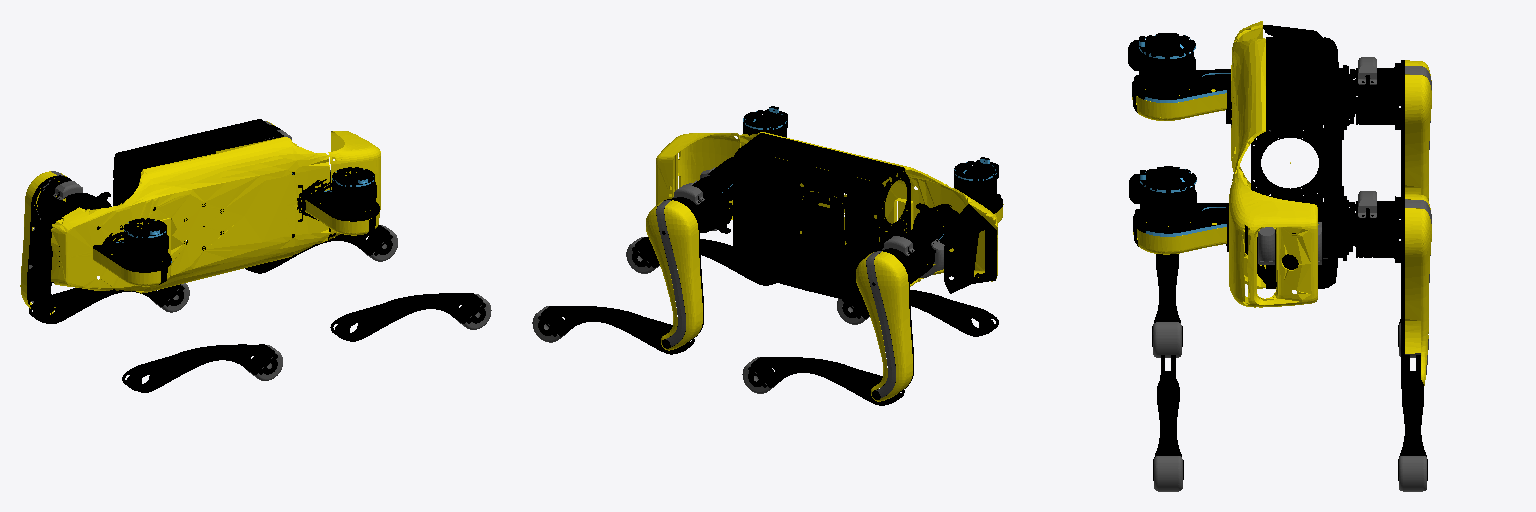
robot.urdf — MiniLiteV2:
<?xml version="1.0" encoding="utf-8"?>
<robot name="MiniLiteV2">
  <gazebo>
    <plugin filename="libgazebo_ros_control.so" name="gazebo_ros_control">
      <robotNamespace>/lite2_gazebo</robotNamespace>
      <robotSimType>gazebo_ros_control/DefaultRobotHWSim</robotSimType>
    </plugin>
  </gazebo>
  <gazebo reference="imu_link">
    <gravity>true</gravity>
    <sensor name="imu_sensor" type="imu">
      <always_on>true</always_on>
      <update_rate>1000</update_rate>
      <visualize>true</visualize>
      <topic>__default_topic__</topic>
      <plugin filename="libgazebo_ros_imu_sensor.so" name="imu_plugin">
        <topicName>trunk_imu</topicName>
        <bodyName>imu_link</bodyName>
        <updateRateHZ>1000.0</updateRateHZ>
        <gaussianNoise>0.0</gaussianNoise>
        <xyzOffset>0 0 0</xyzOffset>
        <rpyOffset>0 0 0</rpyOffset>
        <frameName>imu_link</frameName>
      </plugin>
      <pose>0 0 0 0 0 0</pose>
    </sensor>
  </gazebo>
  <!-- Foot contacts. -->
  <gazebo reference="FR_SHANK">
    <sensor name="FR_foot_contact" type="contact">
      <update_rate>100</update_rate>
      <plugin filename="libRobotFootContactPlugin.so" name="contactPlugin"/>
      <contact>
        <collision>FR_SHANK_fixed_joint_lump__FR_FOOT_collision_1</collision>
      </contact>
    </sensor>
  </gazebo>
  <gazebo reference="FL_SHANK">
    <sensor name="FL_foot_contact" type="contact">
      <update_rate>100</update_rate>
      <plugin filename="libRobotFootContactPlugin.so" name="contactPlugin"/>
      <contact>
        <collision>FL_SHANK_fixed_joint_lump__FL_FOOT_collision_1</collision>
      </contact>
    </sensor>
  </gazebo>
  <gazebo reference="HR_SHANK">
    <sensor name="RR_foot_contact" type="contact">
      <update_rate>100</update_rate>
      <plugin filename="libRobotFootContactPlugin.so" name="contactPlugin"/>
      <contact>
        <collision>HR_SHANK_fixed_joint_lump__HR_FOOT_collision_1</collision>
      </contact>
    </sensor>
  </gazebo>
  <gazebo reference="HL_SHANK">
    <sensor name="RL_foot_contact" type="contact">
      <update_rate>100</update_rate>
      <plugin filename="libRobotFootContactPlugin.so" name="contactPlugin"/>
      <contact>
        <collision>HL_SHANK_fixed_joint_lump__HL_FOOT_collision_1</collision>
      </contact>
    </sensor>
  </gazebo>
  <gazebo reference="TORSO">
    <mu1>0.2</mu1>
    <mu2>0.2</mu2>
    <kp value="1000000.0"/>
    <kd value="1.0"/>
  </gazebo>
  <gazebo reference="FL_HIP">
    <mu1>0.2</mu1>
    <mu2>0.2</mu2>
  </gazebo>
  <gazebo reference="FL_THIGH">
    <mu1>0.2</mu1>
    <mu2>0.2</mu2>
    <self_collide>1</self_collide>
    <kp value="1000000.0"/>
    <kd value="1.0"/>
  </gazebo>
  <gazebo reference="FL_SHANK">
    <mu1>0.2</mu1>
    <mu2>0.2</mu2>
    <self_collide>1</self_collide>
  </gazebo>
  <gazebo reference="FL_FOOT">
    <mu1>0.6</mu1>
    <mu2>0.6</mu2>
    <self_collide>1</self_collide>
    <kp value="1000000.0"/>
    <kd value="1.0"/>
  </gazebo>

  <gazebo reference="FR_HIP">
    <mu1>0.2</mu1>
    <mu2>0.2</mu2>
  </gazebo>
  <gazebo reference="FR_THIGH">
    <mu1>0.2</mu1>
    <mu2>0.2</mu2>
    <self_collide>1</self_collide>
    <kp value="1000000.0"/>
    <kd value="1.0"/>
  </gazebo>
  <gazebo reference="FR_SHANK">
    <mu1>0.2</mu1>
    <mu2>0.2</mu2>
    <self_collide>1</self_collide>
  </gazebo>
  <gazebo reference="FR_FOOT">
    <mu1>0.6</mu1>
    <mu2>0.6</mu2>
    <self_collide>1</self_collide>
    <kp value="1000000.0"/>
    <kd value="1.0"/>
  </gazebo>

  <gazebo reference="HL_HIP">
    <mu1>0.2</mu1>
    <mu2>0.2</mu2>
  </gazebo>
  <gazebo reference="HL_THIGH">
    <mu1>0.2</mu1>
    <mu2>0.2</mu2>
    <self_collide>1</self_collide>
    <kp value="1000000.0"/>
    <kd value="1.0"/>
  </gazebo>
  <gazebo reference="HL_SHANK">
    <mu1>0.2</mu1>
    <mu2>0.2</mu2>
    <self_collide>1</self_collide>
  </gazebo>
  <gazebo reference="HL_FOOT">
    <mu1>0.6</mu1>
    <mu2>0.6</mu2>
    <self_collide>1</self_collide>
    <kp value="1000000.0"/>
    <kd value="1.0"/>
  </gazebo>

  <gazebo reference="HR_HIP">
    <mu1>0.2</mu1>
    <mu2>0.2</mu2>
  </gazebo>
  <gazebo reference="HR_THIGH">
    <mu1>0.2</mu1>
    <mu2>0.2</mu2>
    <self_collide>1</self_collide>
    <kp value="1000000.0"/>
    <kd value="1.0"/>
  </gazebo>
  <gazebo reference="HR_SHANK">
    <mu1>0.2</mu1>
    <mu2>0.2</mu2>
    <self_collide>1</self_collide>
  </gazebo>
  <gazebo reference="HR_FOOT">
    <mu1>0.6</mu1>
    <mu2>0.6</mu2>
    <self_collide>1</self_collide>
    <kp value="1000000.0"/>
    <kd value="1.0"/>
  </gazebo>
  <gazebo reference="imu_link">
    <mu1>0.2</mu1>
    <mu2>0.2</mu2>
    <material>Gazebo/Red</material>
  </gazebo>

  <link name="base_link" />

  <joint name="base_link_fixedjoint" type="fixed">
    <parent link="base_link"/>
    <child link="TORSO"/>
    <origin rpy="0 0 0" xyz="0 0 0"/>
    <axis xyz="0 0 0"/>
  </joint>

  <link name="TORSO">
    <visual>
      <origin rpy="-1.570796 3.1415926 3.1415926" xyz="0 0 0"/>
      <geometry>
        <mesh filename="package://lite2_description/meshes/TORSO2.dae" />
      </geometry>
    </visual>
    <collision>
      <geometry>
        <box size="0.234 0.184 0.08"/>
      </geometry>
    </collision>
  </link>

  <joint name="Torso2Inertia" type="fixed">
    <parent link="TORSO" />
    <child link="INERTIA" />
  </joint>

  <link name="INERTIA">
    <inertial>
      <origin xyz="0.046396 -0.0017592 0.028665" />
      <mass value="5.298" />
      <inertia ixx="0.0095569" ixy="5.9672E-05" ixz="9.3193E-05" iyy="0.014357" iyz="1.9063E-05" izz="0.01949" />
    </inertial>
  </link>

  <joint name="imu_joint" type="fixed">
    <parent link="TORSO"/>
    <child link="imu_link"/>
    <origin rpy="0 0 0" xyz="0 0 0"/>
  </joint>

  <link name="imu_link">
    <inertial>
      <mass value="0.001"/>
      <origin rpy="0 0 0" xyz="0 0 0"/>
      <inertia ixx="0.0001" ixy="0" ixz="0" iyy="0.0001" iyz="0" izz="0.0001"/>
    </inertial>
    <visual>
      <origin rpy="0 0 0" xyz="0 0 0"/>
      <geometry>
        <box size="0.001 0.001 0.001"/>
      </geometry>
      <material name="red"/>
    </visual>
    <collision>
      <origin rpy="0 0 0" xyz="0 0 0"/>
      <geometry>
        <box size=".001 .001 .001"/>
      </geometry>
    </collision>
  </link>

  <joint name="FL_HipX" type="revolute">
    <origin xyz="0.175 0.055 0" rpy="0 0 0"/>
    <parent link="TORSO" />
    <child link="FL_HIP" />
    <axis xyz="1 0 0" />
    <limit lower="-0.523" upper="0.523" effort="13.2" velocity="20" />
  </joint>
  
  <link name="FL_HIP">
    <inertial>
      <origin xyz="-0.0047 -0.0091 -0.0018" />
      <mass value="0.428" />
      <inertia ixx="0.00014538" ixy="8.1579E-07" ixz="-1.264E-05" iyy="0.00024024" iyz="1.3443E-06" izz="0.00013038" />
    </inertial>
    <visual>
      <geometry>
       <mesh filename="package://lite2_description/meshes/FL_HIP.dae" />
      </geometry>
    </visual>
  </link>
  
  <joint name="FL_HipY" type="revolute">
    <origin xyz="0 0.081 0"  rpy="0 0 0"/>
    <parent link="FL_HIP" />
    <child link="FL_THIGH" />
    <axis xyz="0 1 0" />
    <limit lower="-0.349" upper="3.49" effort="13.2" velocity="20" />
  </joint>

  <link name="FL_THIGH">
    <inertial>
      <origin xyz="-0.00523 -0.0216 -0.0273" />
      <mass value="0.61" />
      <inertia ixx="0.001" ixy="-2.5E-06" ixz="-1.12E-04" iyy="0.00116" iyz="3.75E-07" izz="2.68E-04" />
    </inertial>
    <visual>
      <geometry>
        <mesh filename="package://lite2_description/meshes/L_THIGH.dae" />
      </geometry>
    </visual>
    <collision>
      <origin xyz="-0.01 0 -0.055" rpy="0 0.3 0"/>
      <geometry>
        <box size="0.03 0.03 0.16"/>
      </geometry>
    </collision>
  </link>

  <joint name="FL_Knee" type="revolute">
    <origin xyz="0 0 -0.18"  rpy="0 0 0"/>
    <parent link="FL_THIGH" />
    <child link="FL_SHANK" />
    <axis xyz="0 1 0" />
    <limit lower="-2.53" upper="-0.419" effort="28" velocity="20" />
  </joint>

  <link name="FL_SHANK">
    <inertial>
      <origin xyz="0.00585 -8.732E-07 -0.12" />
      <mass value="0.145" />
      <inertia ixx="6.68E-04" ixy="-1.24E-08" ixz="6.91E-06" iyy="6.86E-04" iyz="5.65E-09" izz="3.155E-05" />
    </inertial>
    <visual>
      <geometry>
        <mesh filename="package://lite2_description/meshes/SHANK.dae" />
      </geometry>
    </visual>
    <collision>
      <origin xyz="0 0 -0.08"/>
      <geometry>
        <box size="0.02 0.02 0.16"/>
      </geometry>
    </collision>
  </link>

  <joint name="FL_foot_fixed" type="fixed">
    <origin xyz="0 0 -0.19" rpy="0 0 0"/>
    <parent link="FL_SHANK" />
    <child link="FL_FOOT" />
  </joint>

  <link name="FL_FOOT">
    <inertial>
      <mass value="1E-12" />
      <inertia ixx="1E-12" ixy="0" ixz="0" iyy="1E-12" iyz="0" izz="1E-12" />
    </inertial>
    <collision>
    <origin xyz="0 0 -0.01"/>
      <geometry>
        <sphere radius="0.024"/>
      </geometry>
    </collision>
  </link>

  <transmission name="FL_hip_tran">
    <type>transmission_interface/SimpleTransmission</type>
    <joint name="FL_HipX">
      <hardwareInterface>hardware_interface/EffortJointInterface</hardwareInterface>
    </joint>
    <actuator name="FL_hip_motor">
      <mechanicalReduction>1</mechanicalReduction>
    </actuator>
  </transmission>

  <transmission name="FL_thigh_tran">
    <type>transmission_interface/SimpleTransmission</type>
    <joint name="FL_HipY">
      <hardwareInterface>hardware_interface/EffortJointInterface</hardwareInterface>
    </joint>
    <actuator name="FL_thigh_motor">
      <mechanicalReduction>1</mechanicalReduction>
    </actuator>
  </transmission>

  <transmission name="FL_shank_tran">
    <type>transmission_interface/SimpleTransmission</type>
    <joint name="FL_Knee">
      <hardwareInterface>hardware_interface/EffortJointInterface</hardwareInterface>
    </joint>
    <actuator name="FL_shank_motor">
      <mechanicalReduction>1</mechanicalReduction>
    </actuator>
  </transmission>

  <link name="FR_HIP">
    <inertial>
      <origin xyz="-0.0047 0.0091 -0.0018" />
      <mass value="0.428" />
      <inertia ixx="0.00014538" ixy="-8.1551E-07" ixz="-1.2639E-05" iyy="0.00024024" iyz="-1.3441E-06" izz="0.00013038" />
    </inertial>
    <visual>
      <geometry>
        <mesh filename="package://lite2_description/meshes/FR_HIP.dae" />
      </geometry>
    </visual>
  </link>

  <joint name="FR_HipX" type="revolute">
    <origin xyz="0.175 -0.055 0"  rpy="0 0 0"/>
    <parent link="TORSO" />
    <child link="FR_HIP" />
    <axis xyz="1 0 0" />
    <limit lower="-0.523" upper="0.523" effort="13.2" velocity="20" />
  </joint>

  <link name="FR_THIGH">
    <inertial>
      <origin xyz="-0.00523 0.0216 -0.0273" />
      <mass value="0.61" />
      <inertia ixx="0.001" ixy="2.5E-06" ixz="-1.12E-04" iyy="0.00116" iyz="-3.75E-07" izz="2.68E-04" />
    </inertial>
    <visual>
      <origin rpy="1.570796 0 0" xyz="0 0 0"/>
      <geometry>
        <mesh filename="package://lite2_description/meshes/R_THIGH2.dae" />
      </geometry>
    </visual>
    <collision>
      <origin xyz="-0.01 0 -0.055" rpy="0 0.3 0"/>
      <geometry>
        <box size="0.03 0.03 0.16"/>
      </geometry>
    </collision>
  </link>

  <joint name="FR_HipY" type="revolute">
    <origin xyz="0 -0.08 0"  rpy="0 0 0"/>
    <parent link="FR_HIP" />
    <child link="FR_THIGH" />
    <axis xyz="0 1 0" />
    <limit lower="-0.349" upper="3.49" effort="13.2" velocity="20" />
  </joint>

  <link name="FR_SHANK">
    <inertial>
      <origin xyz="0.00585 -8.732E-07 -0.12" />
      <mass value="0.145" />
      <inertia ixx="6.68E-04" ixy="-1.24E-08" ixz="6.91E-06" iyy="6.86E-04" iyz="5.65E-09" izz="3.155E-05" />
    </inertial>
    <visual>
      <geometry>
        <mesh filename="package://lite2_description/meshes/SHANK.dae" />
      </geometry>
    </visual>
    <collision>
      <origin xyz="0 0 -0.08"/>
      <geometry>
        <box size="0.02 0.02 0.16"/>
      </geometry>
    </collision>
  </link>

  <joint name="FR_Knee" type="revolute">
    <origin xyz="0 0 -0.18" rpy="0 0 0"/>
    <parent link="FR_THIGH" />
    <child link="FR_SHANK" />
    <axis xyz="0 1 0" />
    <limit lower="-2.53" upper="-0.419" effort="28" velocity="20" />
  </joint>

  <link name="FR_FOOT">
    <inertial>
      <mass value="1E-12" />
      <inertia ixx="1E-12" ixy="0" ixz="0" iyy="1E-12" iyz="0" izz="1E-12" />
    </inertial>
    <collision>
    <origin xyz="0 0 -0.01"/>
      <geometry>
        <sphere radius="0.024"/>
      </geometry>
    </collision>
  </link>

  <joint name="FR_foot_fixed" type="fixed">
    <origin xyz="0 0 -0.19" rpy="0 0 0"/>
    <parent link="FR_SHANK" />
    <child link="FR_FOOT" />
  </joint>

   <transmission name="FR_hip_tran">
    <type>transmission_interface/SimpleTransmission</type>
    <joint name="FR_HipX">
      <hardwareInterface>hardware_interface/EffortJointInterface</hardwareInterface>
    </joint>
    <actuator name="FR_hip_motor">
      <hardwareInterface>hardware_interface/EffortJointInterface</hardwareInterface>
      <mechanicalReduction>1</mechanicalReduction>
    </actuator>
  </transmission>
  <transmission name="FR_thigh_tran">
    <type>transmission_interface/SimpleTransmission</type>
    <joint name="FR_HipY">
      <hardwareInterface>hardware_interface/EffortJointInterface</hardwareInterface>
    </joint>
    <actuator name="FR_thigh_motor">
      <hardwareInterface>hardware_interface/EffortJointInterface</hardwareInterface>
      <mechanicalReduction>1</mechanicalReduction>
    </actuator>
  </transmission>
  <transmission name="FR_shank_tran">
    <type>transmission_interface/SimpleTransmission</type>
    <joint name="FR_Knee">
      <hardwareInterface>hardware_interface/EffortJointInterface</hardwareInterface>
    </joint>
    <actuator name="FR_shank_motor">
      <hardwareInterface>hardware_interface/EffortJointInterface</hardwareInterface>
      <mechanicalReduction>1</mechanicalReduction>
    </actuator>
  </transmission>

  <link name="HL_HIP">
    <inertial>
      <origin xyz="0.0047 -0.0091 -0.0018" />
      <mass value="0.428" />
      <inertia ixx="0.00014538" ixy="-8.1585E-07" ixz="1.2639E-05" iyy="0.00024024" iyz="1.3444E-06" izz="0.00013038" />
    </inertial>
    <visual>
      <geometry>
        <mesh filename="package://lite2_description/meshes/HL_HIP.dae" />
      </geometry>
    </visual>
  </link>

  <joint name="HL_HipX" type="revolute">
    <origin xyz="-0.175 0.055 0"  rpy="0 0 0"/>
    <parent link="TORSO" />
    <child link="HL_HIP" />
    <axis xyz="1 0 0" />
    <limit lower="-0.523" upper="0.523" effort="13.2" velocity="20" />
  </joint>

  <link name="HL_THIGH">
    <inertial>
      <origin xyz="-0.00523 -0.0216 -0.0273" />
      <mass value="0.61" />
      <inertia ixx="0.001" ixy="-2.5E-06" ixz="-1.12E-04" iyy="0.00116" iyz="3.75E-07" izz="2.68E-04" />
    </inertial>
    <visual>
      <geometry>
        <mesh filename="package://lite2_description/meshes/L_THIGH.dae" />
      </geometry>
    </visual>
    <collision>
      <origin xyz="-0.01 0 -0.055" rpy="0 0.3 0"/>
      <geometry>
        <box size="0.03 0.03 0.16"/>
      </geometry>
    </collision>
  </link>

  <joint name="HL_HipY" type="revolute">
    <origin xyz="0 0.081 0"  rpy="0 0 0"/>
    <parent link="HL_HIP" />
    <child link="HL_THIGH" />
    <axis xyz="0 1 0" />
    <limit lower="-0.349" upper="3.49" effort="13.2" velocity="20" />
  </joint>

  <link name="HL_SHANK">
    <inertial>
      <origin xyz="0.00585 -8.732E-07 -0.12" />
      <mass value="0.145" />
      <inertia ixx="6.68E-04" ixy="-1.24E-08" ixz="6.91E-06" iyy="6.86E-04" iyz="5.65E-09" izz="3.155E-05" />
    </inertial>
    <visual>
      <geometry>
        <mesh filename="package://lite2_description/meshes/SHANK.dae" />
      </geometry>
    </visual>
    <collision>
      <origin xyz="0 0 -0.08"/>
      <geometry>
        <box size="0.02 0.02 0.16"/>
      </geometry>
    </collision>
  </link>

  <joint name="HL_Knee" type="revolute">
    <origin xyz="0 0 -0.18"  rpy="0 0 0"/>
    <parent link="HL_THIGH" />
    <child link="HL_SHANK" />
    <axis xyz="0 1 0" />
    <limit lower="-2.53" upper="-0.419" effort="28" velocity="20" />
  </joint>

  <link name="HL_FOOT">
    <inertial>
      <mass value="1E-12" />
      <inertia ixx="1E-12" ixy="0" ixz="0" iyy="1E-12" iyz="0" izz="1E-12" />
    </inertial>
    <collision>
    <origin xyz="0 0 -0.01"/>
      <geometry>
        <sphere radius="0.024"/>
      </geometry>
    </collision>
  </link>

  <joint name="HL_foot_fixed" type="fixed">
    <origin xyz="0 0 -0.19" rpy="0 0 0"/>
    <parent link="HL_SHANK" />
    <child link="HL_FOOT" />
  </joint>

  <transmission name="HL_hip_tran">
    <type>transmission_interface/SimpleTransmission</type>
    <joint name="HL_HipX">
      <hardwareInterface>hardware_interface/EffortJointInterface</hardwareInterface>
    </joint>
    <actuator name="HL_hip_motor">
      <hardwareInterface>hardware_interface/EffortJointInterface</hardwareInterface>
      <mechanicalReduction>1</mechanicalReduction>
    </actuator>
  </transmission>
  <transmission name="HL_thigh_tran">
    <type>transmission_interface/SimpleTransmission</type>
    <joint name="HL_HipY">
      <hardwareInterface>hardware_interface/EffortJointInterface</hardwareInterface>
    </joint>
    <actuator name="HL_thigh_motor">
      <hardwareInterface>hardware_interface/EffortJointInterface</hardwareInterface>
      <mechanicalReduction>1</mechanicalReduction>
    </actuator>
  </transmission>
  <transmission name="HL_shank_tran">
    <type>transmission_interface/SimpleTransmission</type>
    <joint name="HL_Knee">
      <hardwareInterface>hardware_interface/EffortJointInterface</hardwareInterface>
    </joint>
    <actuator name="HL_shank_motor">
      <hardwareInterface>hardware_interface/EffortJointInterface</hardwareInterface>
      <mechanicalReduction>1</mechanicalReduction>
    </actuator>
  </transmission>

  <link name="HR_HIP">
    <inertial>
      <origin xyz="0.0047 0.0091 -0.0018" />
      <mass value="0.428" />
      <inertia ixx="0.00014538" ixy="8.1545E-07" ixz="1.2639E-05" iyy="0.00024024" iyz="-1.344E-06" izz="0.00013038" />
    </inertial>
    <visual>
      <geometry>
        <mesh filename="package://lite2_description/meshes/HR_HIP.dae" />
      </geometry>
    </visual>
  </link>

  <joint name="HR_HipX" type="revolute">
    <origin xyz="-0.175 -0.055 0"  rpy="0 0 0"/>
    <parent link="TORSO" />
    <child link="HR_HIP" />
    <axis xyz="1 0 0" />
    <limit lower="-0.523" upper="0.523" effort="13.2" velocity="20" />
  </joint>

  <link name="HR_THIGH">
    <inertial>
      <origin xyz="-0.00523 0.0216 -0.0273" />
      <mass value="0.61" />
      <inertia ixx="0.001" ixy="2.5E-06" ixz="-1.12E-04" iyy="0.00116" iyz="-3.75E-07" izz="2.68E-04" />
    </inertial>
    <visual>
      <origin rpy="1.570796 0 0" xyz="0 0 0"/>
      <geometry>
        <mesh filename="package://lite2_description/meshes/R_THIGH2.dae" />
      </geometry>
    </visual>
    <collision>
      <origin xyz="-0.01 0 -0.055" rpy="0 0.3 0"/>
      <geometry>
        <box size="0.03 0.03 0.16"/>
      </geometry>
    </collision>
  </link>

  <joint name="HR_HipY" type="revolute">
    <origin xyz="0 -0.081 0"  rpy="0 0 0"/>
    <parent link="HR_HIP" />
    <child link="HR_THIGH" />
    <axis xyz="0 1 0" />
    <limit lower="-0.349" upper="3.49" effort="13.2" velocity="20" />
  </joint>

  <link name="HR_SHANK">
    <inertial>
      <origin xyz="0.00585 -8.732E-07 -0.12" />
      <mass value="0.145" />
      <inertia ixx="6.68E-04" ixy="-1.24E-08" ixz="6.91E-06" iyy="6.86E-04" iyz="5.65E-09" izz="3.155E-05" />
    </inertial>
    <visual>
      <geometry>
        <mesh filename="package://lite2_description/meshes/SHANK.dae" />
      </geometry>
    </visual>
    <collision>
      <origin xyz="0 0 -0.08"/>
      <geometry>
        <box size="0.02 0.02 0.16"/>
      </geometry>
    </collision>
  </link>

  <joint name="HR_Knee" type="revolute">
    <origin xyz="0 0 -0.18"  rpy="0 0 0"/>
    <parent link="HR_THIGH" />
    <child link="HR_SHANK" />
    <axis xyz="0 1 0" />
    <limit lower="-2.53" upper="-0.419" effort="28" velocity="20" />
  </joint>

  <link name="HR_FOOT">
    <inertial>
      <mass value="1E-12" />
      <inertia ixx="1E-12" ixy="0" ixz="0" iyy="1E-12" iyz="0" izz="1E-12" />
    </inertial>
    <collision>
    <origin xyz="0 0 -0.01"/>
      <geometry>
        <sphere radius="0.024"/>
      </geometry>
    </collision>
  </link>

  <joint name="HR_foot_fixed" type="fixed">
    <origin xyz="0 0 -0.19" rpy="0 0 0"/>
    <parent link="HR_SHANK" />
    <child link="HR_FOOT" />
  </joint>

  <transmission name="HR_hip_tran">
    <type>transmission_interface/SimpleTransmission</type>
    <joint name="HR_HipX">
      <hardwareInterface>hardware_interface/EffortJointInterface</hardwareInterface>
    </joint>
    <actuator name="HR_hip_motor">
      <hardwareInterface>hardware_interface/EffortJointInterface</hardwareInterface>
      <mechanicalReduction>1</mechanicalReduction>
    </actuator>
  </transmission>
  <transmission name="HR_thigh_tran">
    <type>transmission_interface/SimpleTransmission</type>
    <joint name="HR_HipY">
      <hardwareInterface>hardware_interface/EffortJointInterface</hardwareInterface>
    </joint>
    <actuator name="HR_thigh_motor">
      <hardwareInterface>hardware_interface/EffortJointInterface</hardwareInterface>
      <mechanicalReduction>1</mechanicalReduction>
    </actuator>
  </transmission>
  <transmission name="HR_shank_tran">
    <type>transmission_interface/SimpleTransmission</type>
    <joint name="HR_Knee">
      <hardwareInterface>hardware_interface/EffortJointInterface</hardwareInterface>
    </joint>
    <actuator name="HR_shank_motor">
      <hardwareInterface>hardware_interface/EffortJointInterface</hardwareInterface>
      <mechanicalReduction>1</mechanicalReduction>
    </actuator>
  </transmission>

</robot>

--- Facts derived from the render (not from the file) ---
Views: 3 orthographic renders of the robot side by side, from view 1: azimuth 30°, elevation 25°; view 2: azimuth 150°, elevation 25°; view 3: azimuth 270°, elevation 25°.
Robot: MiniLiteV2 — 20 links, 19 joints (12 revolute, 7 fixed); root link base_link; default pose: all joints at 0 but 4 set to mid-range because 0 is outside their limits (FL_Knee = -1.47, FR_Knee = -1.47, HL_Knee = -1.47, HR_Knee = -1.47).
Visible links, largest first — view 1: TORSO, HL_THIGH, FR_SHANK, HR_THIGH, HR_SHANK, FR_THIGH, HL_SHANK, FL_SHANK, HL_HIP; view 2: TORSO, HL_THIGH, FL_THIGH, HL_SHANK, FL_SHANK, HR_SHANK, HR_THIGH, FR_SHANK, HL_HIP, FL_HIP, FR_THIGH, HR_HIP; view 3: TORSO, FL_THIGH, HL_THIGH, HR_THIGH, FR_THIGH, FR_SHANK, FL_SHANK, HR_SHANK, FL_HIP, FR_HIP, HL_HIP.
Boxes of the visible links, x1,y1,x2,y2 form: TORSO: (45, 119, 380, 293); HL_THIGH: (20, 171, 82, 321); FR_SHANK: (330, 293, 491, 341); HR_THIGH: (93, 218, 171, 286); HR_SHANK: (122, 344, 282, 392); FR_THIGH: (292, 167, 379, 235); HL_SHANK: (29, 283, 189, 323); FL_SHANK: (245, 225, 397, 273); HL_HIP: (67, 192, 111, 209); TORSO: (656, 132, 997, 304); HL_THIGH: (856, 236, 921, 401); FL_THIGH: (646, 185, 711, 350); HL_SHANK: (742, 357, 904, 405); FL_SHANK: (532, 306, 694, 354); HR_SHANK: (837, 290, 998, 336); HR_THIGH: (921, 157, 1003, 265); FR_SHANK: (626, 237, 775, 285); HL_HIP: (876, 228, 944, 277); FL_HIP: (686, 177, 732, 233); FR_THIGH: (704, 106, 787, 208); HR_HIP: (913, 203, 958, 235); TORSO: (1229, 21, 1341, 307); FL_THIGH: (1350, 191, 1431, 388); HL_THIGH: (1349, 57, 1431, 200); HR_THIGH: (1128, 33, 1230, 120); FR_THIGH: (1129, 166, 1341, 254); FR_SHANK: (1153, 355, 1183, 491); FL_SHANK: (1398, 355, 1427, 491); HR_SHANK: (1152, 254, 1182, 357); FL_HIP: (1305, 186, 1354, 264); FR_HIP: (1226, 203, 1275, 264); HL_HIP: (1323, 65, 1354, 139).
Size in the robot's own frame: 0.6721 by 0.3373 by 0.3228 metres.
13 mesh visuals loaded from 8 distinct referenced files (8 Collada DAE).